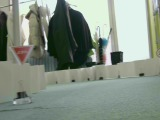stop: (8, 45, 37, 65)
